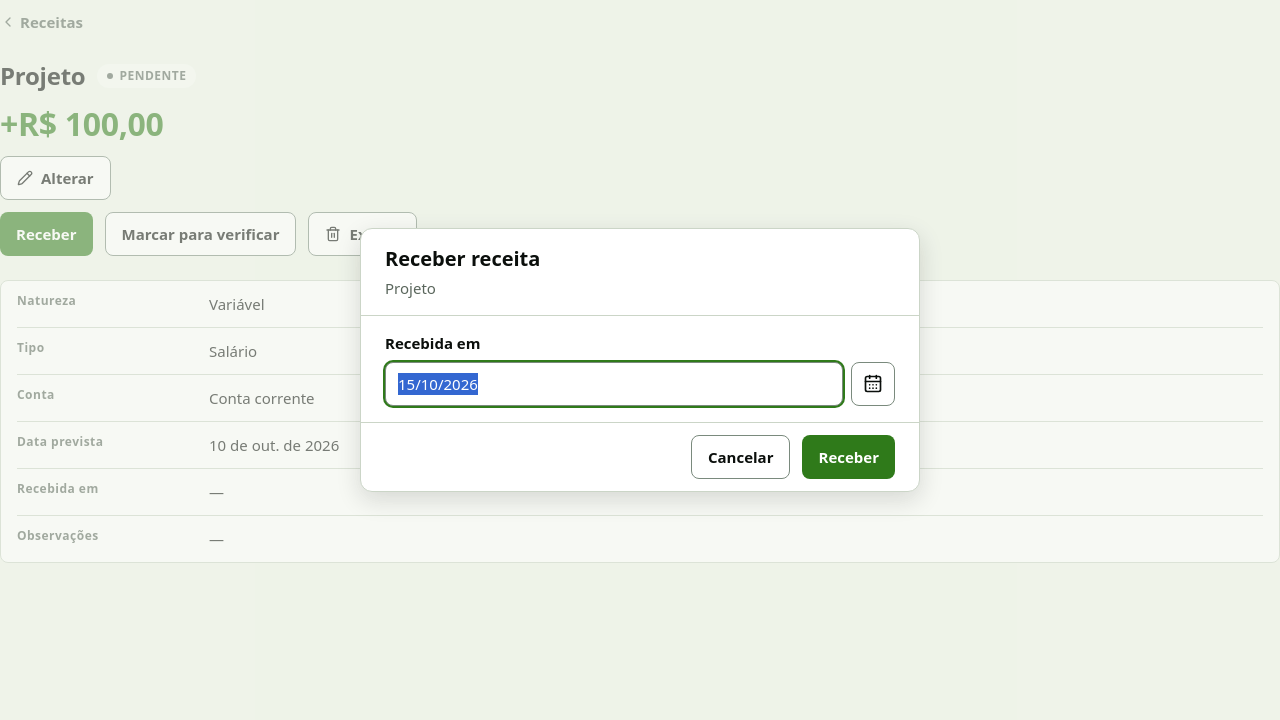
EarningActions (spec 0014) › shows the catalog message and reloads the detail on EARNING_ALREADY_RECEIVED
Check: the heading "Projeto" is shown, box [0,60,86,92]
Step 1. Click the button "Receber" → (849, 457), box [802,435,895,479]
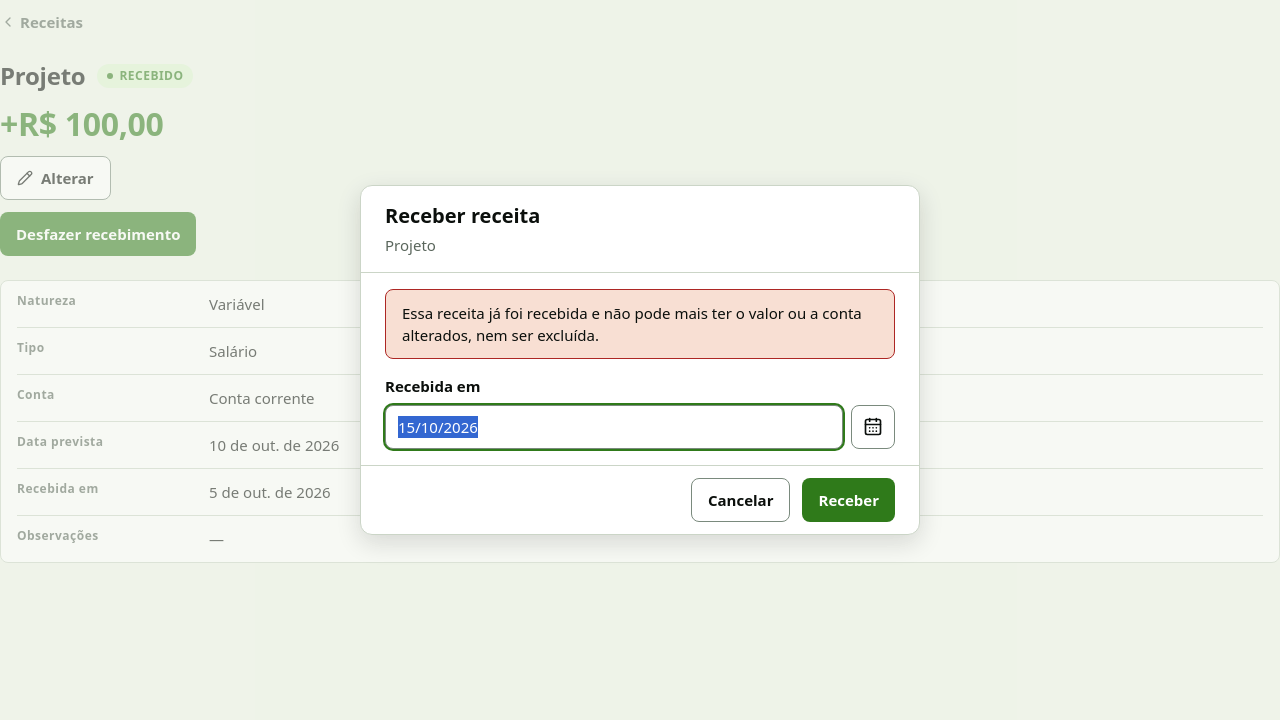
Check: the message does not show "raw", box [385,289,895,359]
Check: the message shows "Essa receita já foi recebida e não pode mais", box [402,303,862,345]
